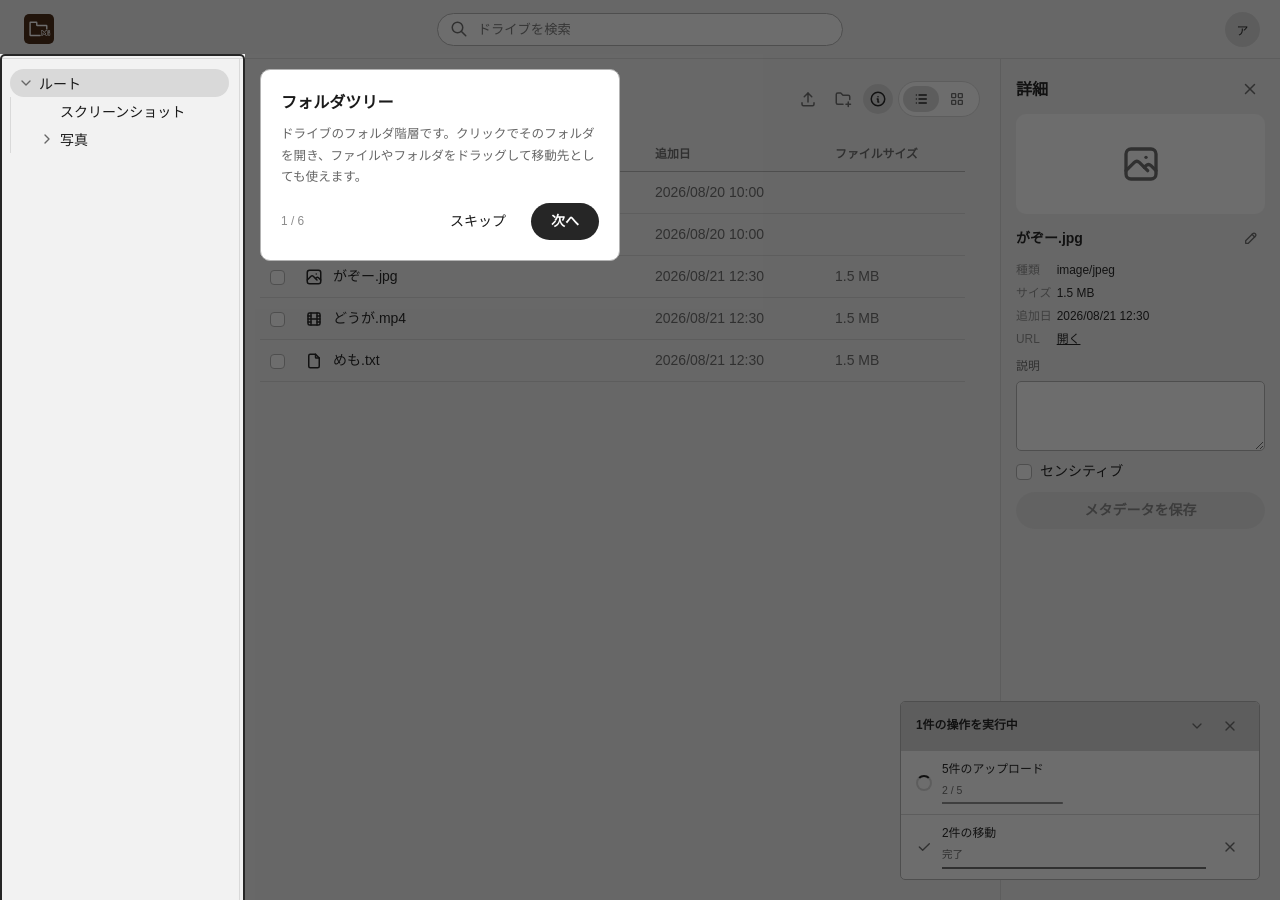
Test: チュートリアルツアー › 次へで進み、戻るで戻れる
The image size is (1280, 900).
Click the button "次へ" at coordinates (565, 222), box [531,203,599,240]
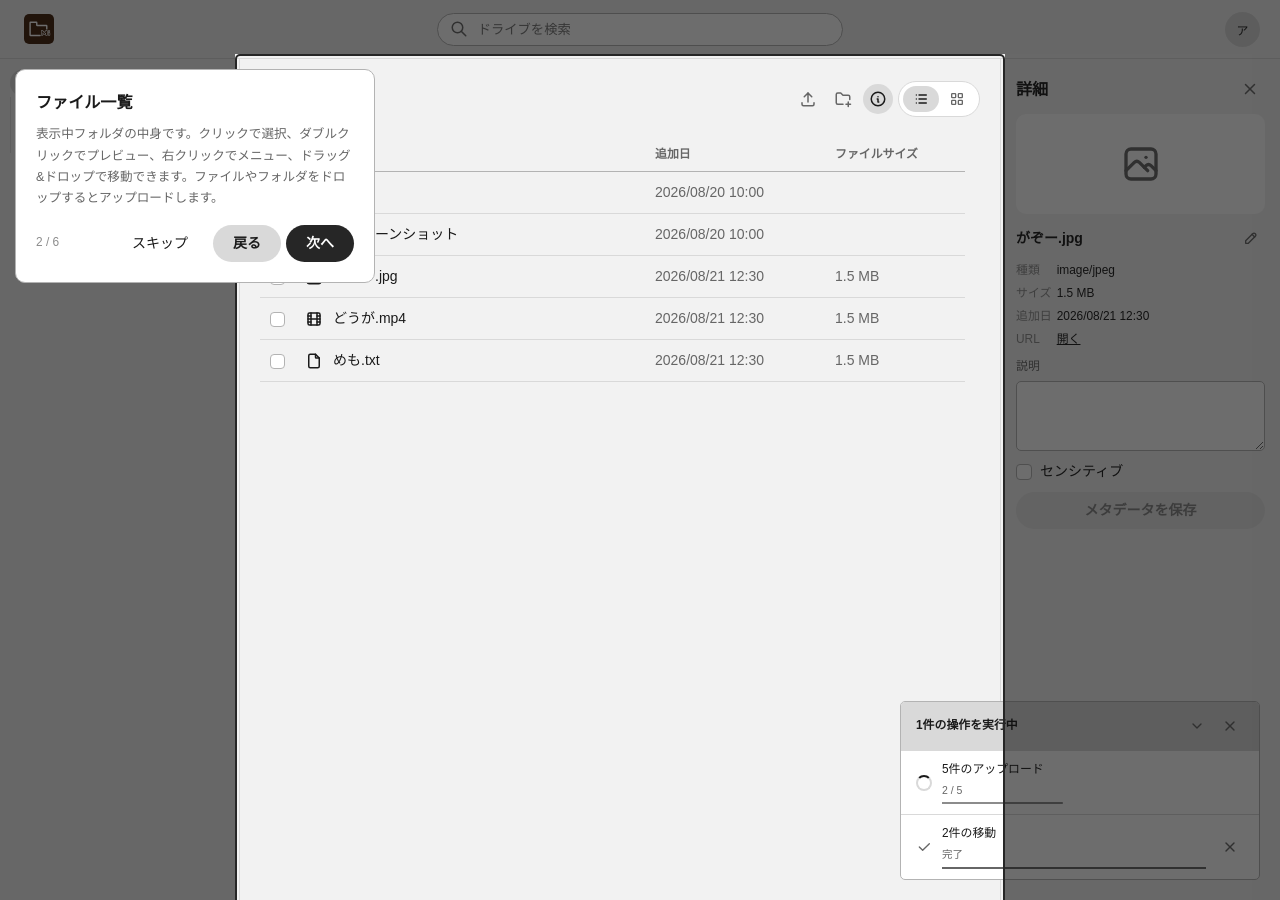
Check: the heading "ファイル一覧" is shown, box [36,93,133,111]
Click the button "戻る" at coordinates (247, 243), box [213,225,281,262]
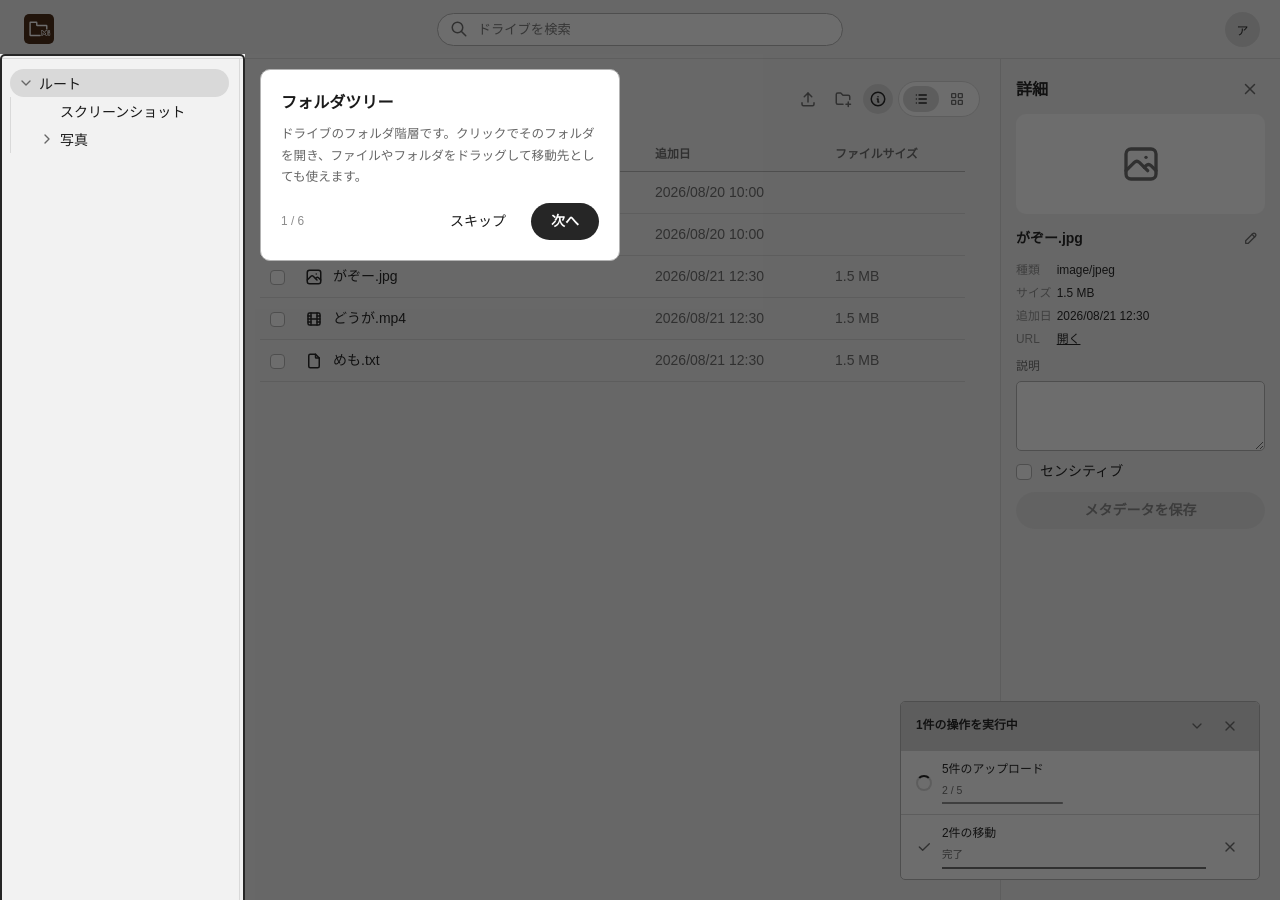
Check: the heading "フォルダツリー" is shown, box [281,93,394,111]
